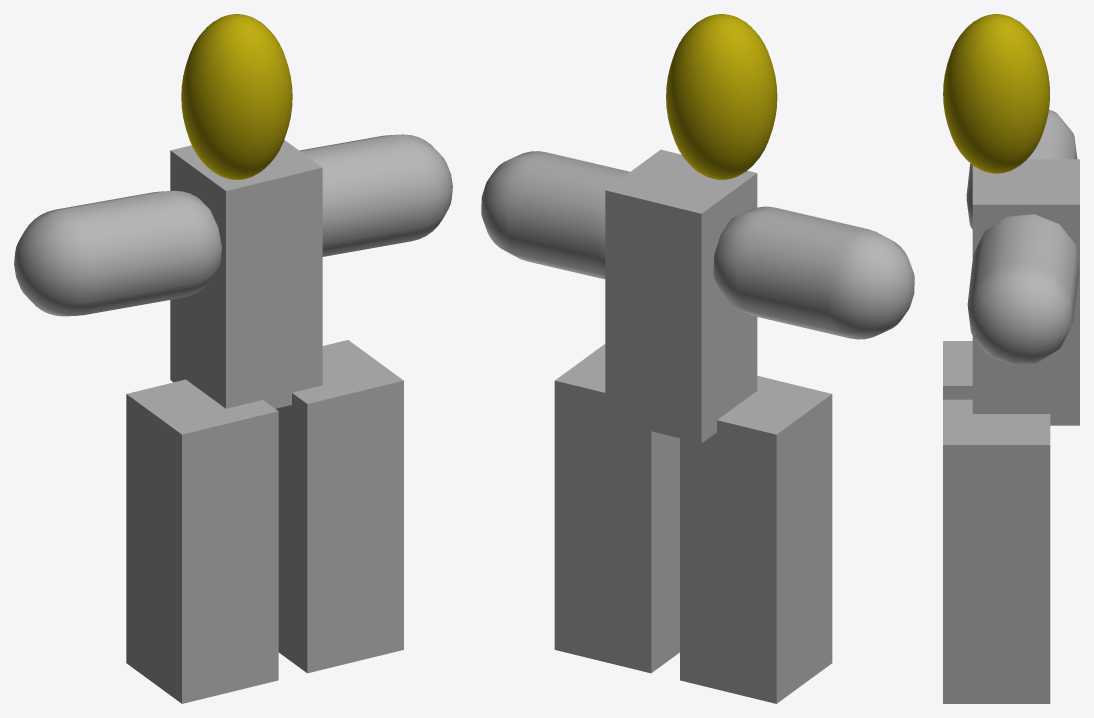
The model's file is Drake2.fbx.
3 views of the same model, side by side, from view 1: azimuth 30°, elevation 25°; view 2: azimuth 150°, elevation 25°; view 3: azimuth 270°, elevation 25° (orthographic). The views are drawn at different scales.
Visible parts, largest first — view 1: Box2, Box1, Box, Capsule1, Sphere, Capsule; view 2: Box2, Box, Box1, Capsule1, Sphere, Capsule; view 3: Box1, Box, Capsule, Sphere, Capsule1, Box2.
Part boxes in pixels (bbox=[...]): Box2: bbox=[126, 379, 278, 703]; Box1: bbox=[276, 340, 403, 673]; Box: bbox=[170, 140, 322, 408]; Capsule1: bbox=[14, 190, 221, 316]; Sphere: bbox=[181, 14, 292, 179]; Capsule: bbox=[299, 134, 452, 256]; Box2: bbox=[680, 375, 832, 703]; Box: bbox=[605, 149, 757, 443]; Box1: bbox=[554, 344, 679, 673]; Capsule1: bbox=[713, 206, 914, 339]; Sphere: bbox=[666, 14, 777, 179]; Capsule: bbox=[481, 151, 629, 279]; Box1: bbox=[943, 399, 1050, 703]; Box: bbox=[972, 159, 1079, 425]; Capsule: bbox=[967, 214, 1078, 365]; Sphere: bbox=[943, 14, 1049, 173]; Capsule1: bbox=[966, 109, 1077, 228]; Box2: bbox=[943, 341, 972, 399].
Size of the model in its own units: 4.37 by 6.4 by 1.28.
